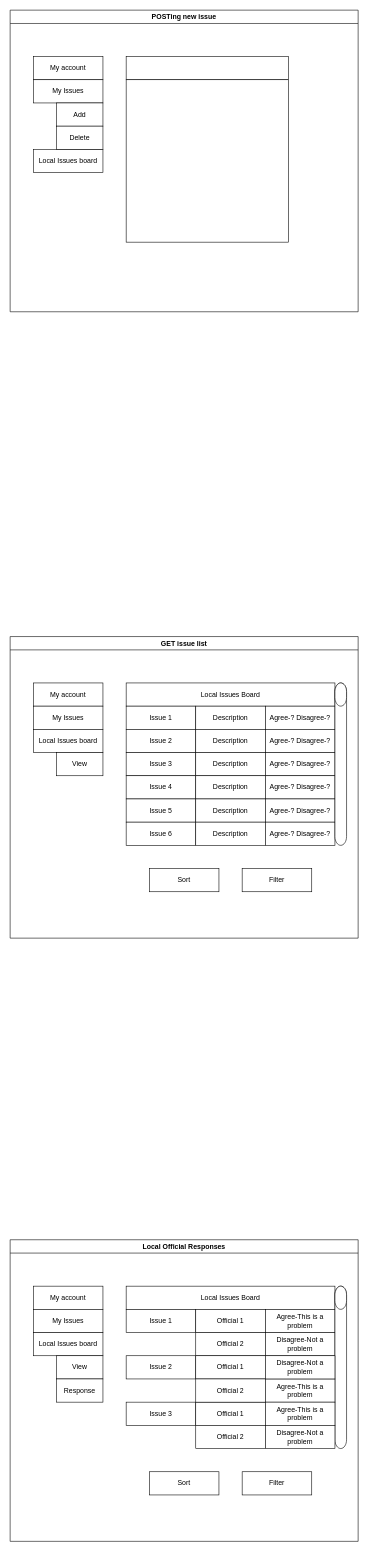
Image size: 368x1552. Some labels were removed from this diagram. Each missing label, with the centre of its shape:
"Description of Issue" belongs at (207,160).
"Issue name" belongs at (207,68).
